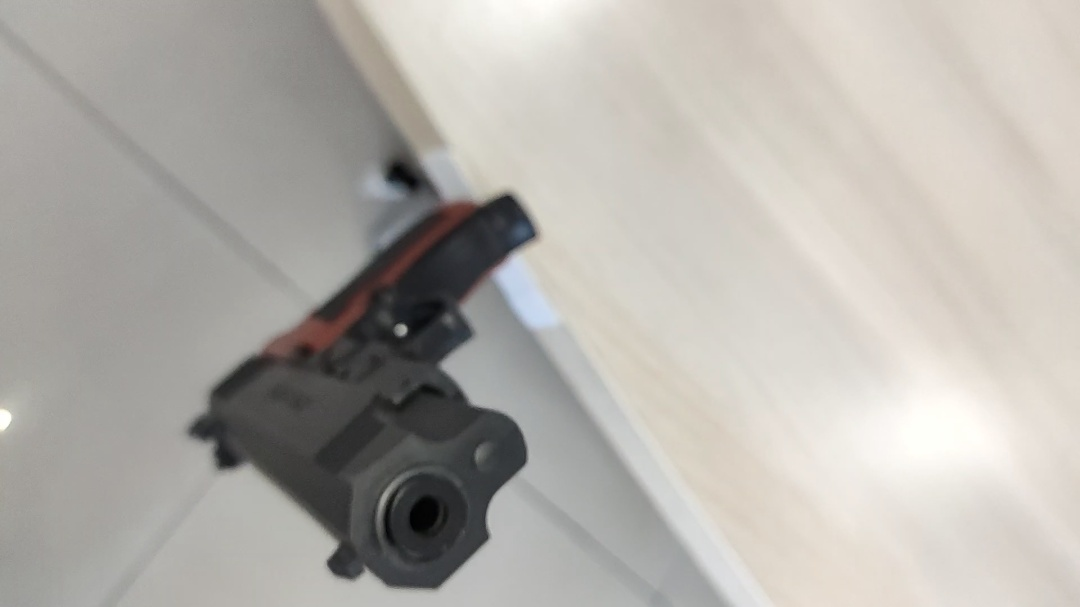gun: (192, 193, 535, 588)
